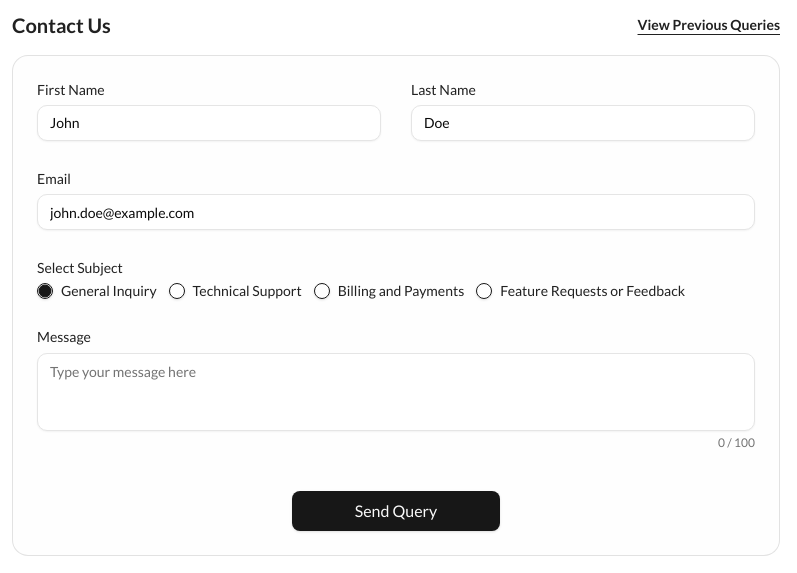
Scenario: ContactUs Component › Message Character Limit › should handle paste event within character limit
The image size is (797, 573).
Click the text box labelled "Message" at (396,392), box [37,353,755,431]
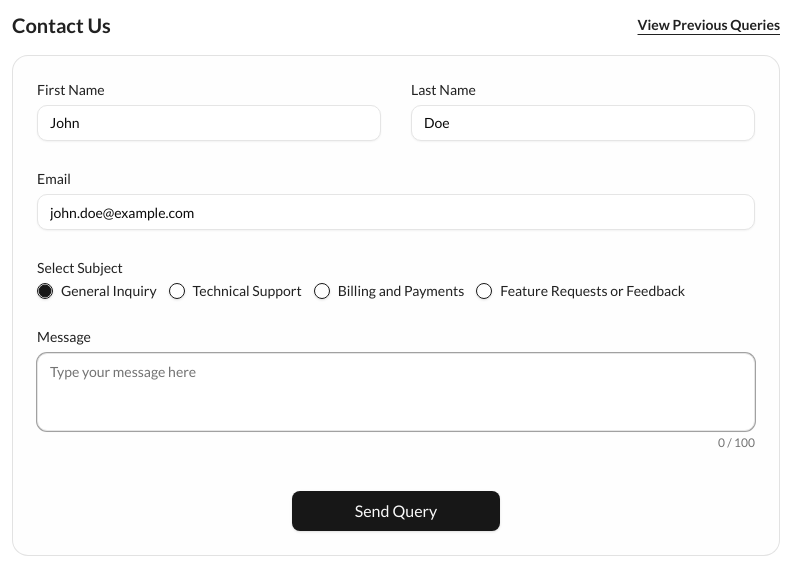
Type keys "This is a short message"
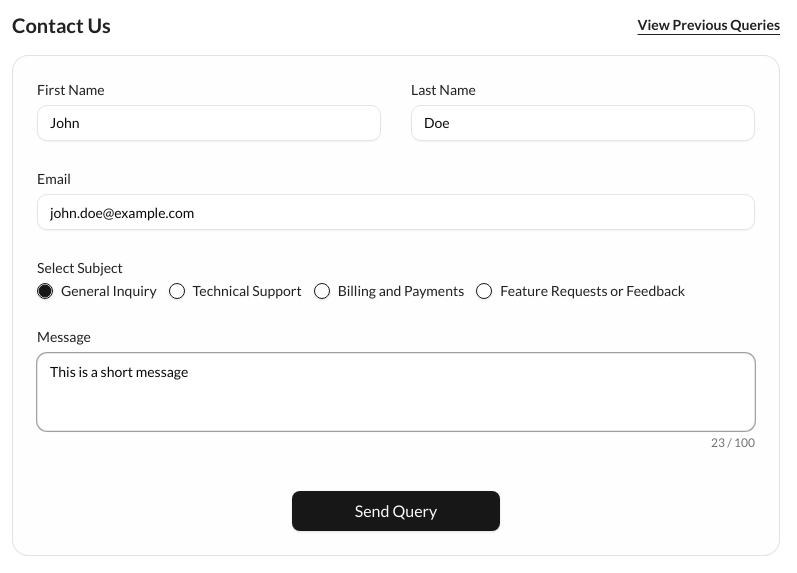
Check: the text box labelled "Message" holds "This is a short message", box [37,353,755,431]
